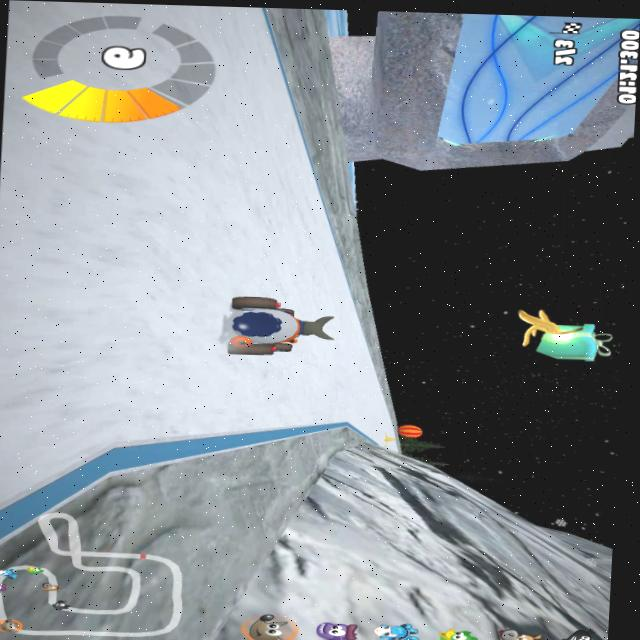obstacle: (379, 428, 396, 451)
player_kart: (219, 297, 324, 362)
track: (0, 0, 235, 439), (190, 6, 299, 189), (217, 185, 331, 299), (211, 358, 333, 427), (323, 262, 369, 355), (320, 353, 374, 423), (0, 426, 65, 475), (370, 389, 388, 438)
